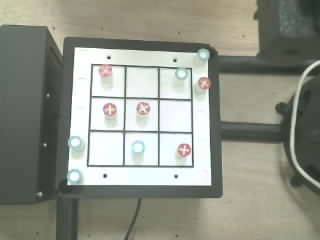blue circle: (68, 136, 83, 151), (67, 169, 80, 183), (132, 140, 144, 153), (198, 48, 209, 60), (175, 68, 187, 79)
board: (68, 48, 211, 185)
cells: (89, 132, 122, 165), (125, 132, 157, 165), (90, 98, 123, 129), (126, 67, 158, 98), (160, 134, 192, 165), (125, 99, 157, 130), (92, 65, 124, 96), (160, 100, 191, 131), (160, 68, 190, 98)
grid: (87, 64, 193, 167)
red cross: (177, 143, 191, 156), (103, 103, 116, 116), (136, 102, 150, 114), (198, 77, 211, 89), (99, 64, 111, 76)
